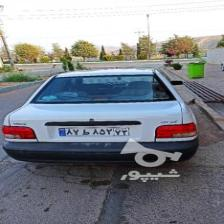plate: (55, 127, 128, 136)
